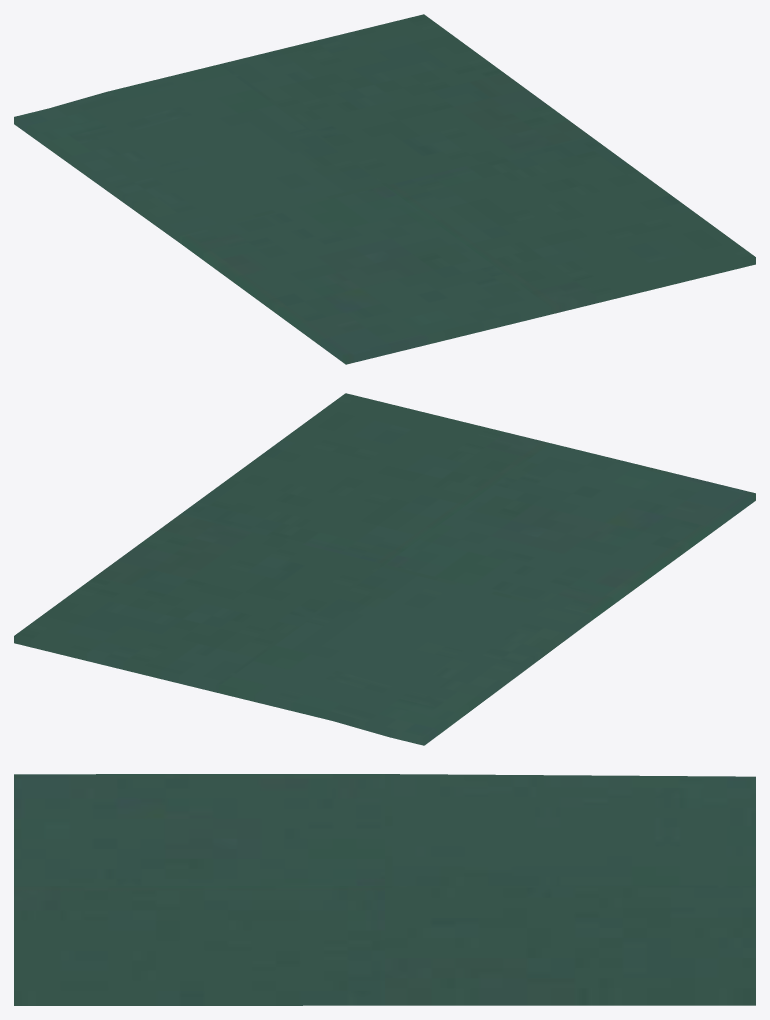
3 views of the same model, one above another, from view 1: azimuth 30°, elevation 25°; view 2: azimuth 150°, elevation 25°; view 3: azimuth 270°, elevation 25° (orthographic). The views are drawn at different scales.
Parts seen in each view (by area): view 1: 30436272704370637420_0; view 2: 30436272704370637420_0; view 3: 30436272704370637420_0.
Boxes of the visible parts, x1,y1,x2,y2 form: 30436272704370637420_0: (14, 14, 755, 364); 30436272704370637420_0: (14, 393, 755, 745); 30436272704370637420_0: (14, 774, 755, 1005).
Bounding box in the file's own units: 27.32 × 0.6248 × 38.26.
1 material, 1 textured.
